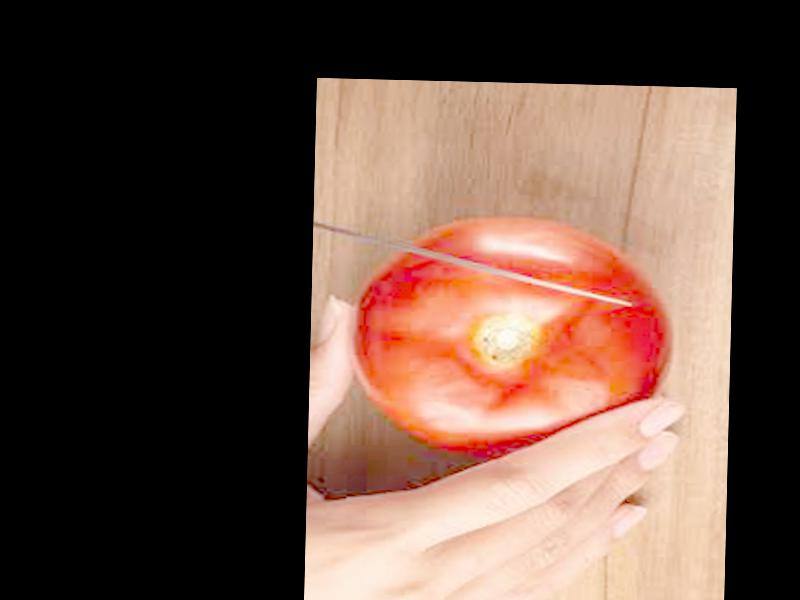Tomato: (352, 218, 673, 465)
